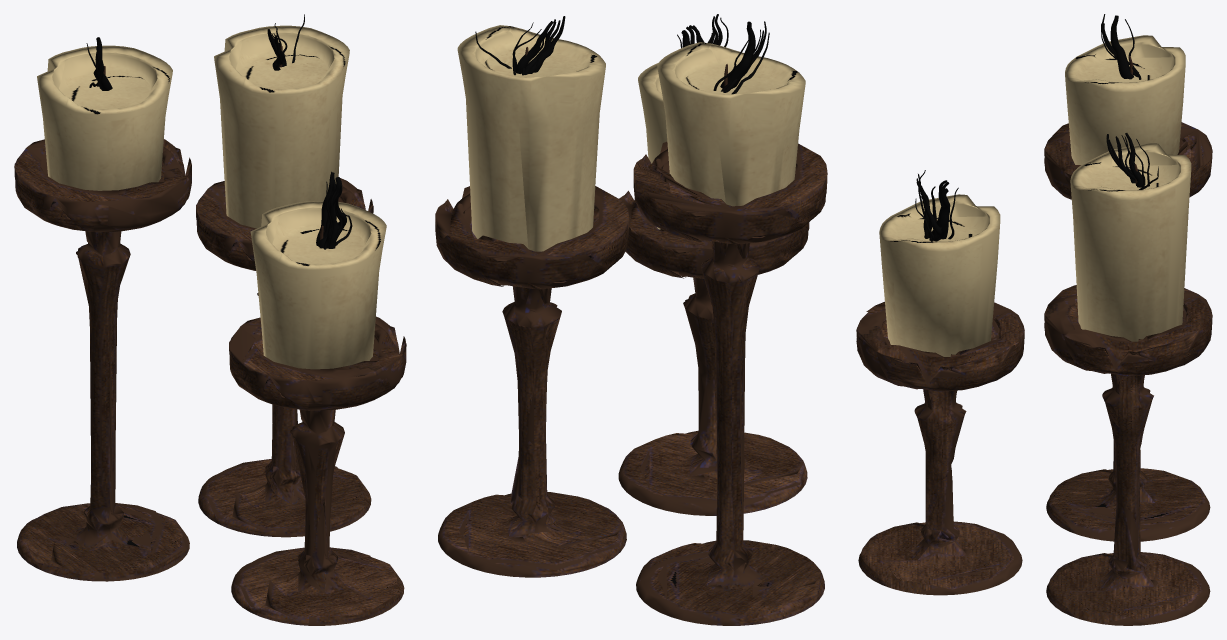
File: candle 2.obj
3 views of the same model, side by side, from view 1: azimuth 30°, elevation 25°; view 2: azimuth 150°, elevation 25°; view 3: azimuth 270°, elevation 25° (orthographic). The views are drawn at different scales.
Parts seen in each view (by area): view 1: directionalLight2; view 2: directionalLight2; view 3: directionalLight2.
Part boxes in pixels (box(x1,y1,x2,y2)): directionalLight2: box(14, 14, 406, 625); directionalLight2: box(435, 14, 827, 625); directionalLight2: box(856, 14, 1212, 625).
Size of the model in its own units: 4.11 by 6.01 by 3.99.
Materials: 6 (3 with a texture image).
